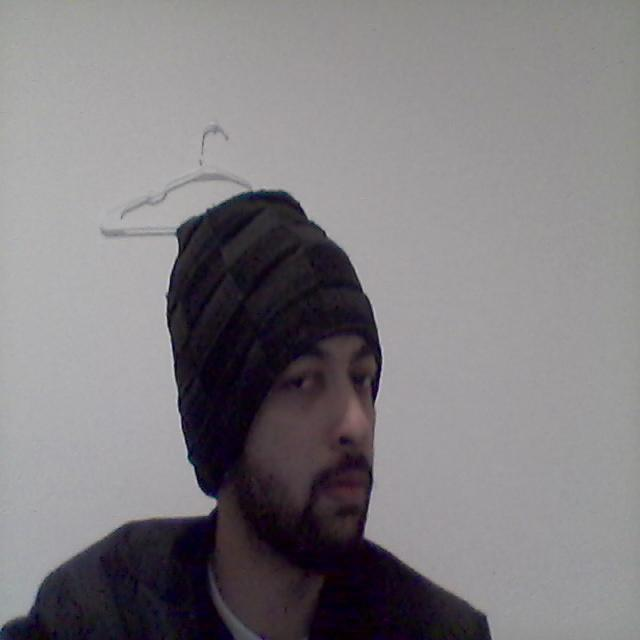cap: (155, 188, 395, 448)
